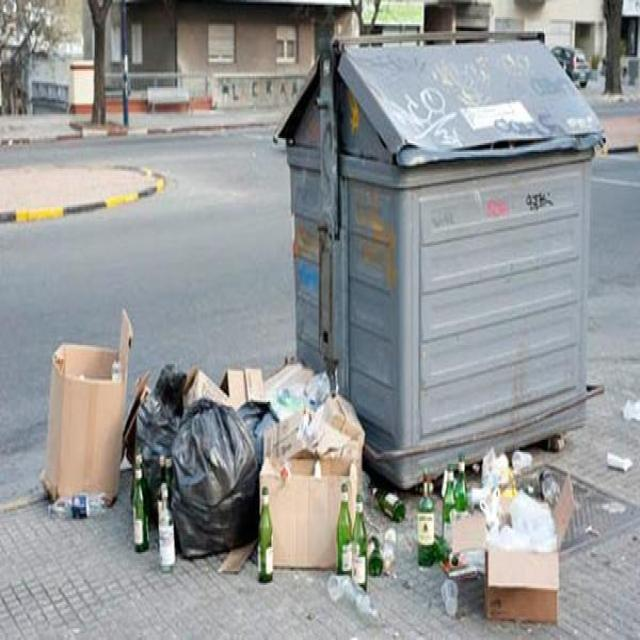garbage: (44, 318, 371, 595), (414, 446, 580, 627)
